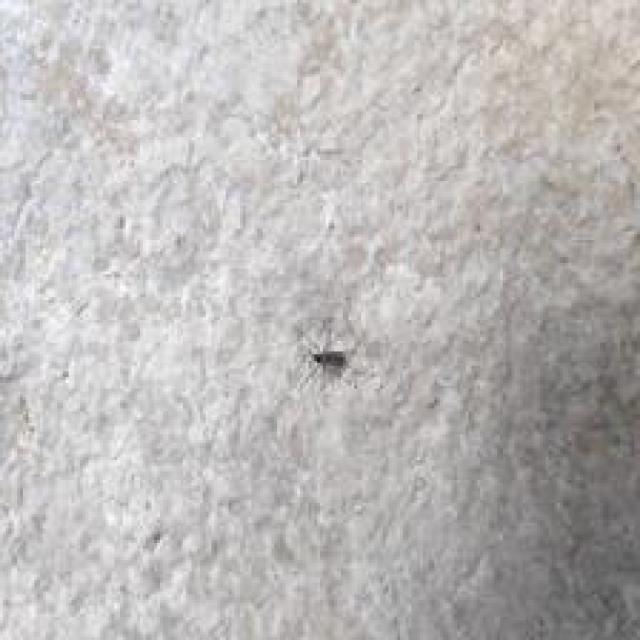Aedes albopictus: (310, 349, 347, 374)
